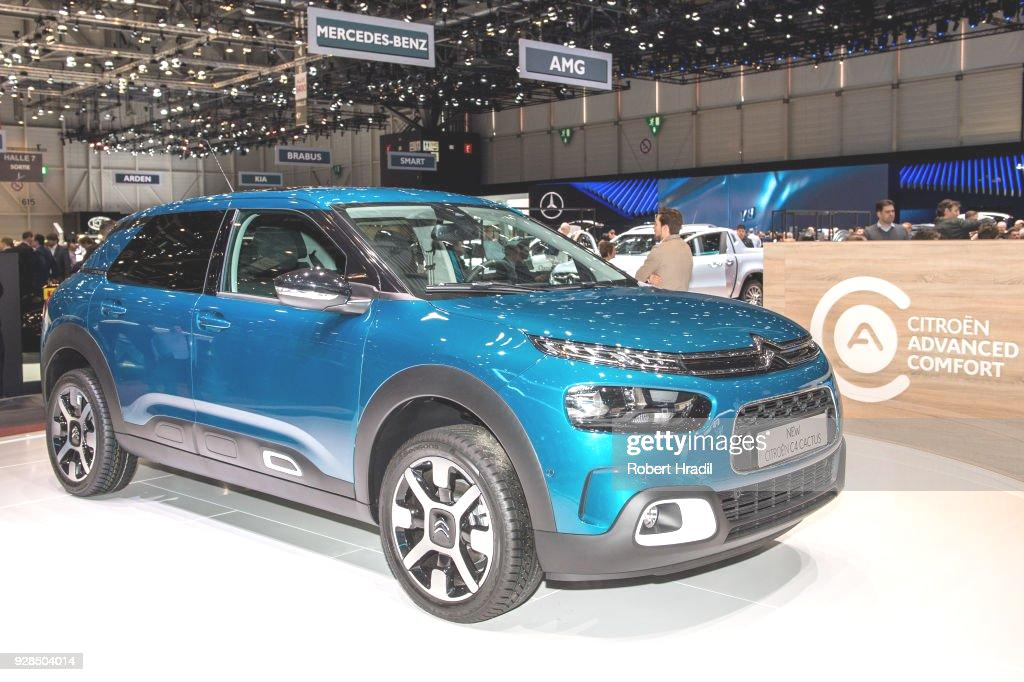Citroen: (742, 323, 790, 380)
